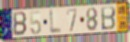5: (29, 10, 42, 36)
7: (66, 8, 78, 34)
8: (85, 7, 99, 32)
B: (100, 5, 117, 32), (13, 11, 28, 37)
L: (49, 8, 62, 35)
